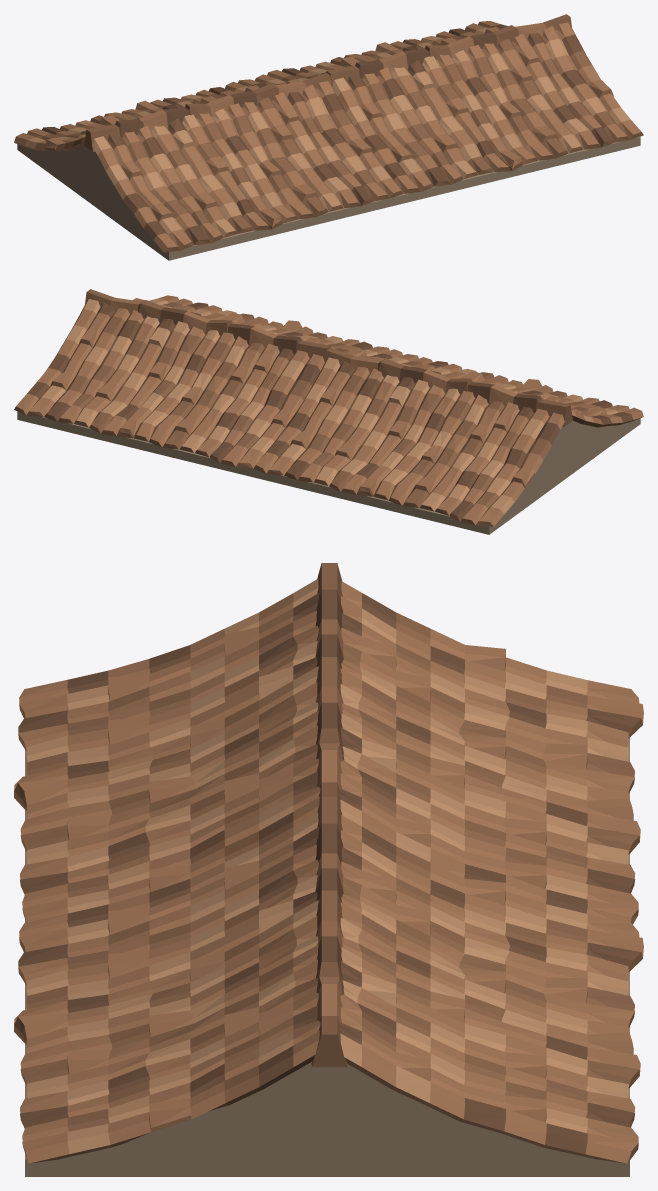
File: SM_Bld_Cuba_Roof_02.glb
3 renders of one model, top to bottom at view 1: azimuth 30°, elevation 25°; view 2: azimuth 150°, elevation 25°; view 3: azimuth 270°, elevation 25°, orthographic. The views are drawn at different scales.
Visible parts, largest first — view 1: SM_Bld_Cuba_Roof_02_part00; view 2: SM_Bld_Cuba_Roof_02_part00; view 3: SM_Bld_Cuba_Roof_02_part00.
Part boxes in pixels (<box>): SM_Bld_Cuba_Roof_02_part00: <box>14,14,643,260</box>; SM_Bld_Cuba_Roof_02_part00: <box>14,289,643,534</box>; SM_Bld_Cuba_Roof_02_part00: <box>14,563,643,1176</box>.
Bounding box in the file's own units: 7.67 × 1.17 × 4.36.
1 material, 1 textured.
